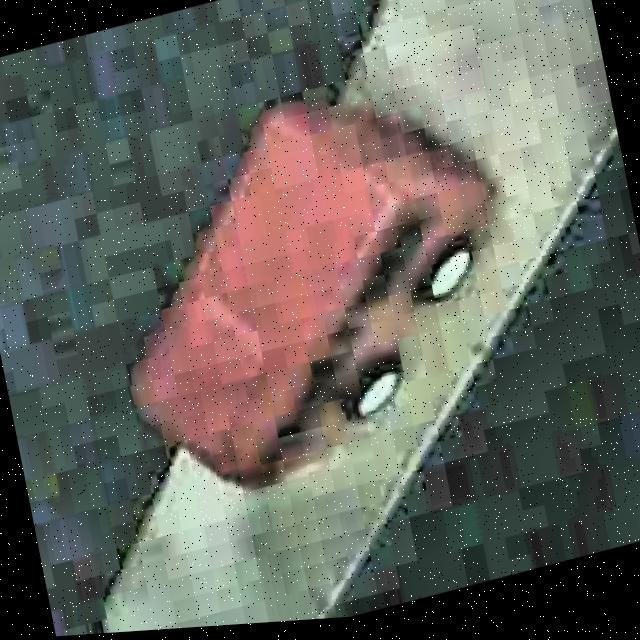bus: (80, 55, 542, 521)
